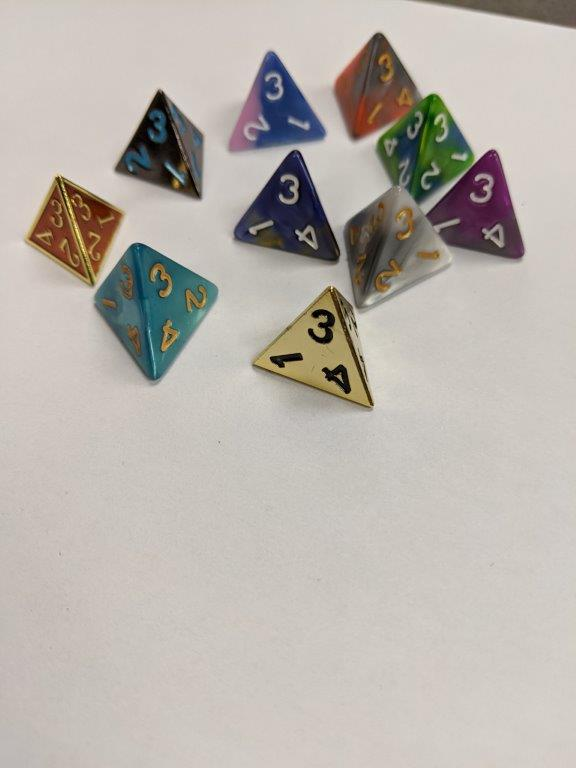d4-3: (92, 243, 220, 385), (250, 283, 378, 408), (342, 186, 453, 309), (232, 149, 342, 264), (22, 171, 129, 283), (426, 147, 528, 264), (379, 90, 475, 198), (113, 88, 203, 199), (227, 49, 324, 151), (333, 32, 418, 140)
